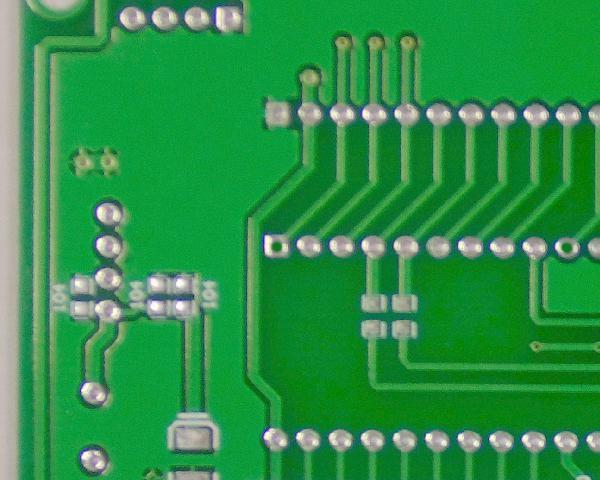missing hole: (260, 231, 294, 262), (551, 234, 585, 263)
